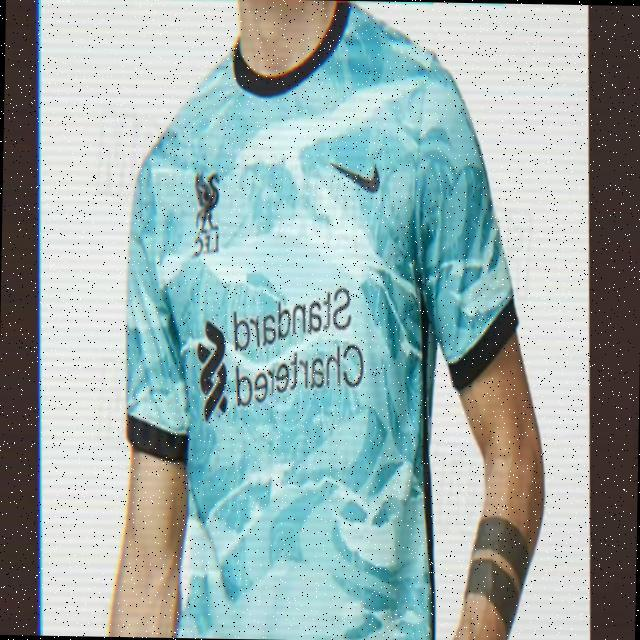Nike: (331, 163, 380, 193)
Standard Chartered: (198, 283, 366, 423)
